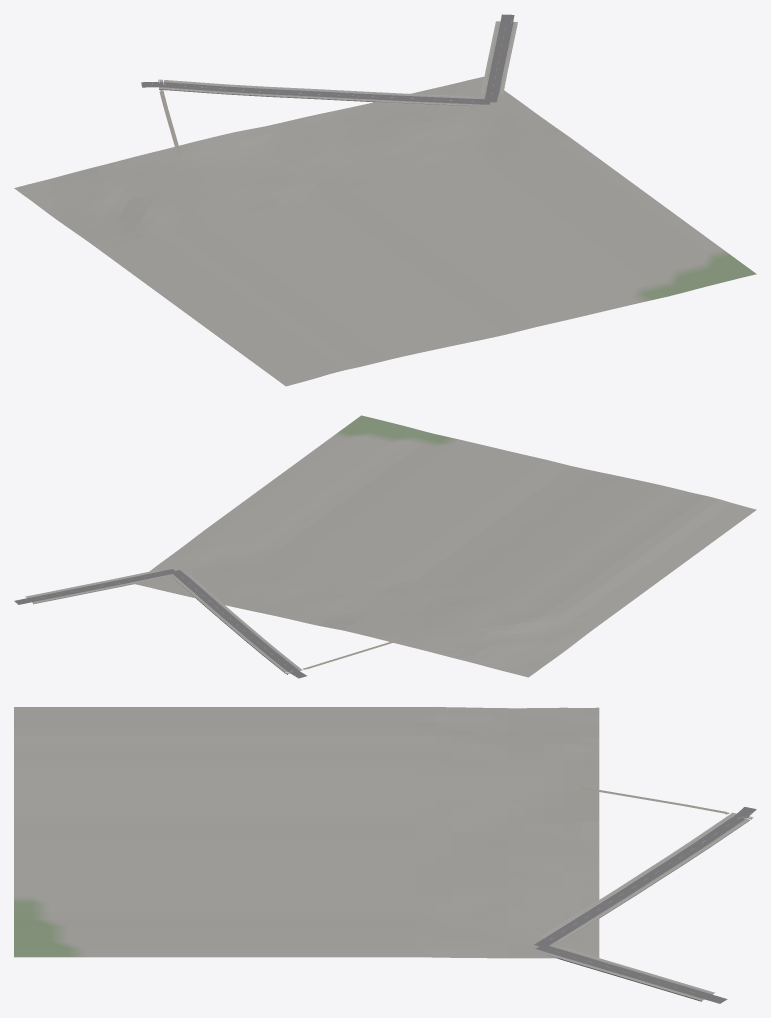
Rendered from tile_-5_7.glb.
3 renders of one model, top to bottom at view 1: azimuth 30°, elevation 25°; view 2: azimuth 150°, elevation 25°; view 3: azimuth 270°, elevation 25°, orthographic. The views are drawn at different scales.
Visible parts, largest first — view 1: terrain, roads, sidewalks; view 2: terrain, roads, sidewalks; view 3: terrain, roads, sidewalks.
Boxes of the visible parts, x1,y1,x2,y2 form: terrain: (14, 76, 756, 386); roads: (141, 14, 514, 104); sidewalks: (158, 21, 517, 106); terrain: (133, 415, 756, 677); roads: (14, 569, 306, 678); sidewalks: (25, 570, 302, 674); terrain: (14, 707, 599, 958); roads: (534, 807, 756, 1003); sidewalks: (540, 812, 753, 1001).
Size of the model in its own units: 302 by 3.95 by 325.
